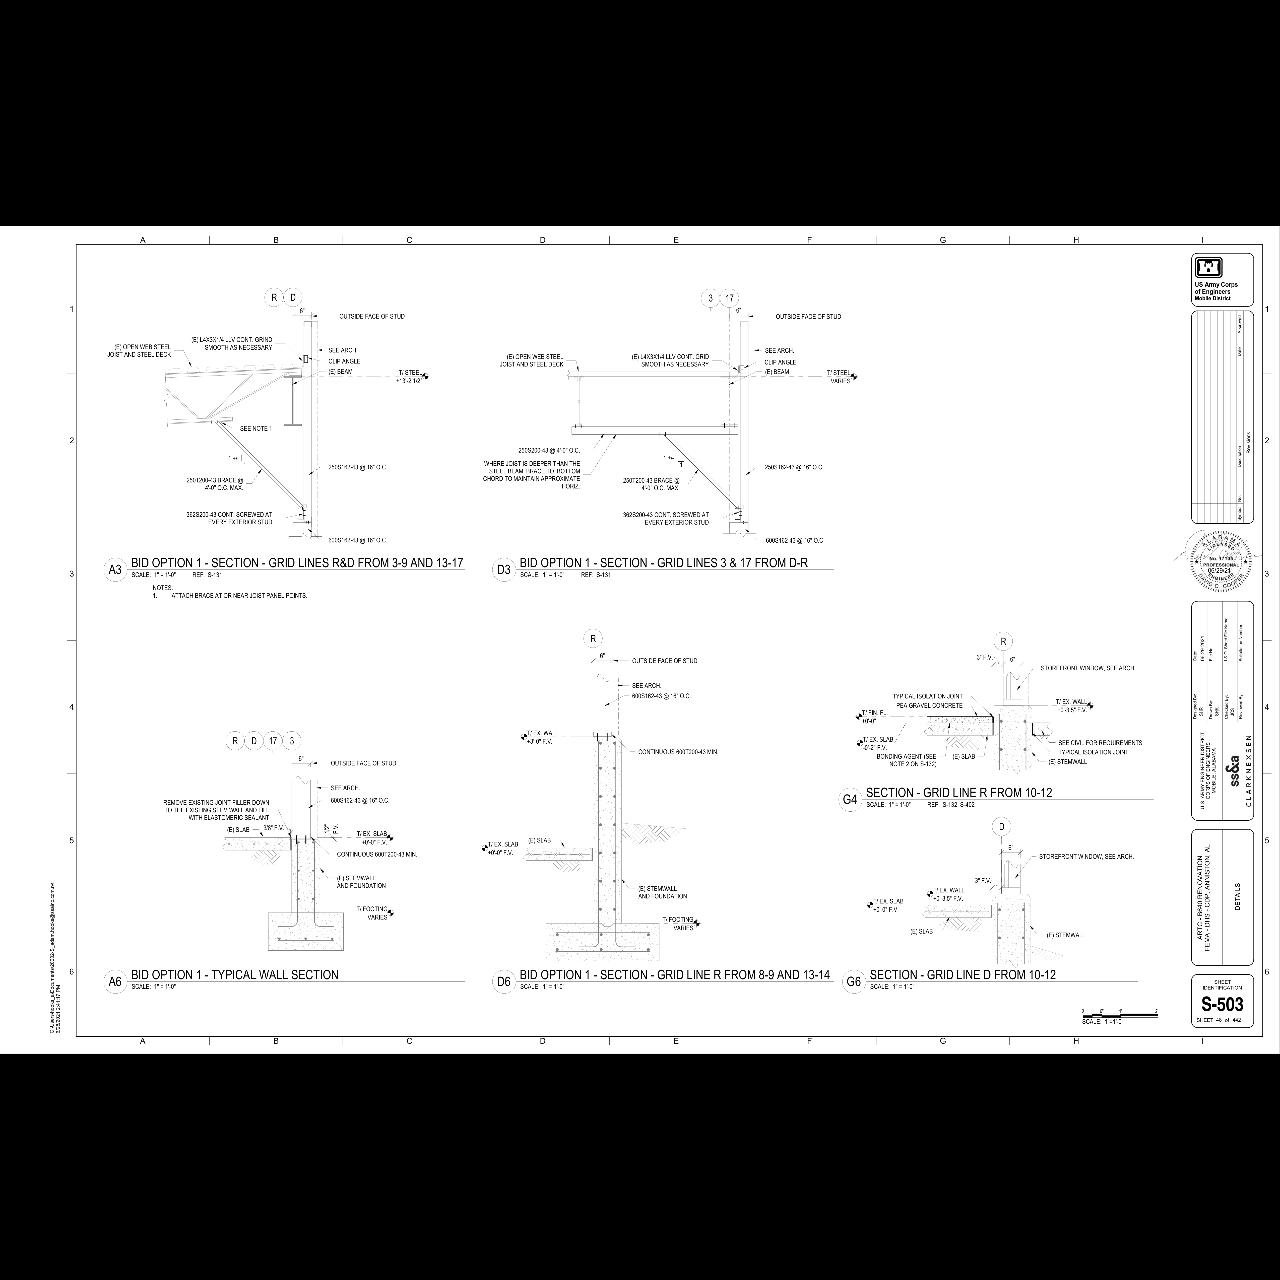title: (102, 965, 469, 998), (98, 552, 469, 584), (490, 964, 836, 996), (490, 553, 838, 585), (837, 782, 1157, 813), (839, 965, 1143, 998)
